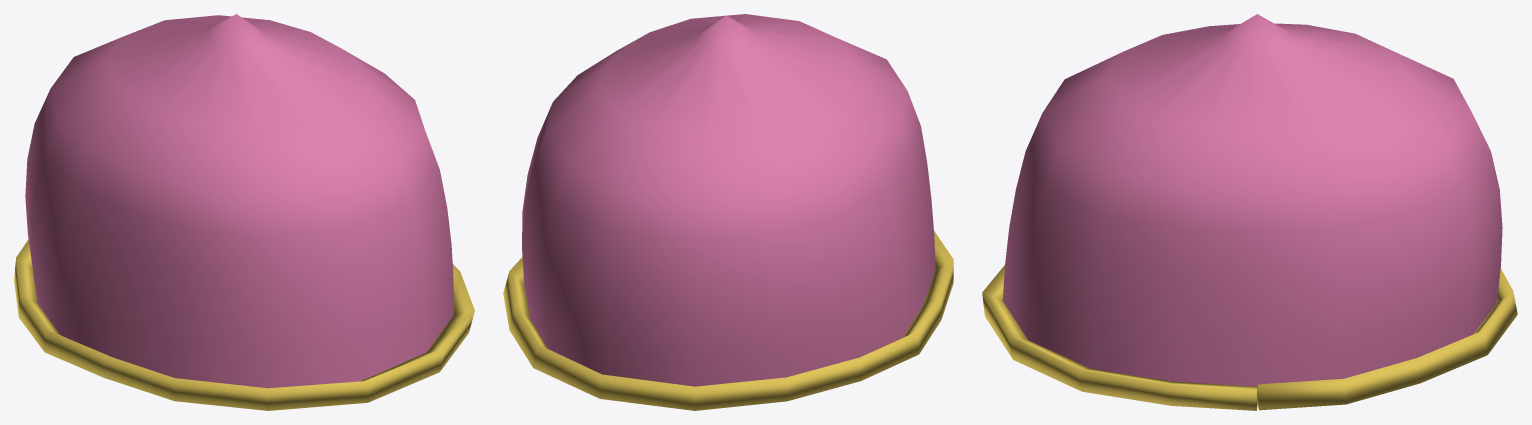
File: princess_outfit_head.glb
3 renders of one model, left to right at view 1: azimuth 30°, elevation 25°; view 2: azimuth 150°, elevation 25°; view 3: azimuth 270°, elevation 25°, orthographic. The views are drawn at different scales.
Visible parts, largest first — view 1: princess_outfit_head; view 2: princess_outfit_head; view 3: princess_outfit_head.
Part boxes in pixels (box(x1,y1,x2,y2)): princess_outfit_head: box(14, 14, 474, 410); princess_outfit_head: box(503, 14, 953, 410); princess_outfit_head: box(982, 14, 1517, 410).
Bounding box in the file's own units: 0.2403 × 0.1754 × 0.2808.
